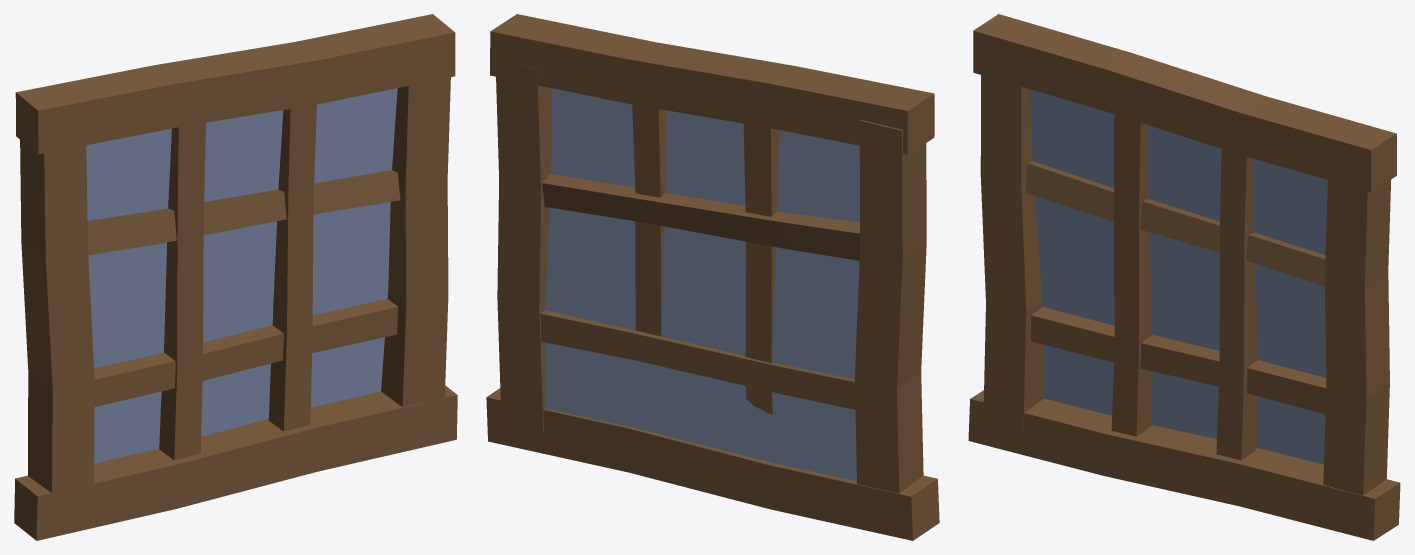
File: Window_Large.fbx
The picture shows the model from 3 angles, left to right: view 1: azimuth 30°, elevation 25°; view 2: azimuth 150°, elevation 25°; view 3: azimuth 330°, elevation 25°; orthographic projection. The views are drawn at different scales.
Visible parts, largest first — view 1: Window_Large; view 2: Window_Large; view 3: Window_Large.
Boxes of the visible parts, x1=… form: Window_Large: x1=14, y1=14, x2=457, y2=540; Window_Large: x1=486, y1=14, x2=939, y2=540; Window_Large: x1=968, y1=14, x2=1400, y2=540.
Bounding box in the file's own units: 113 × 110 × 12.56.
